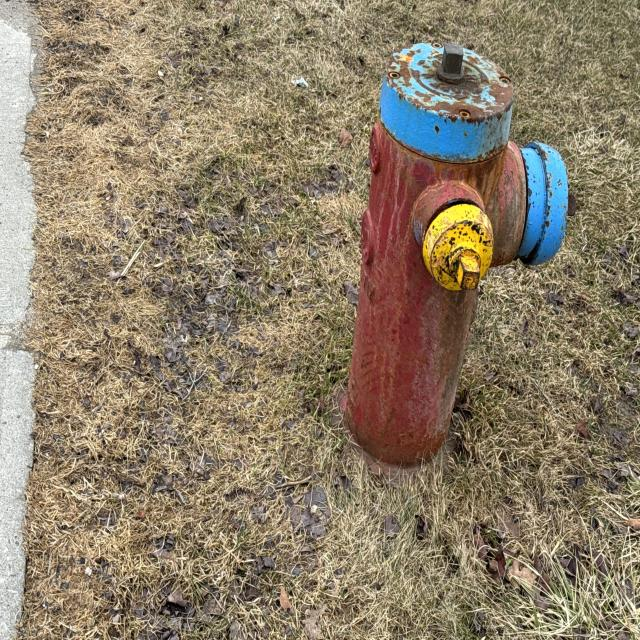Fire hydrant: (328, 41, 578, 492)
